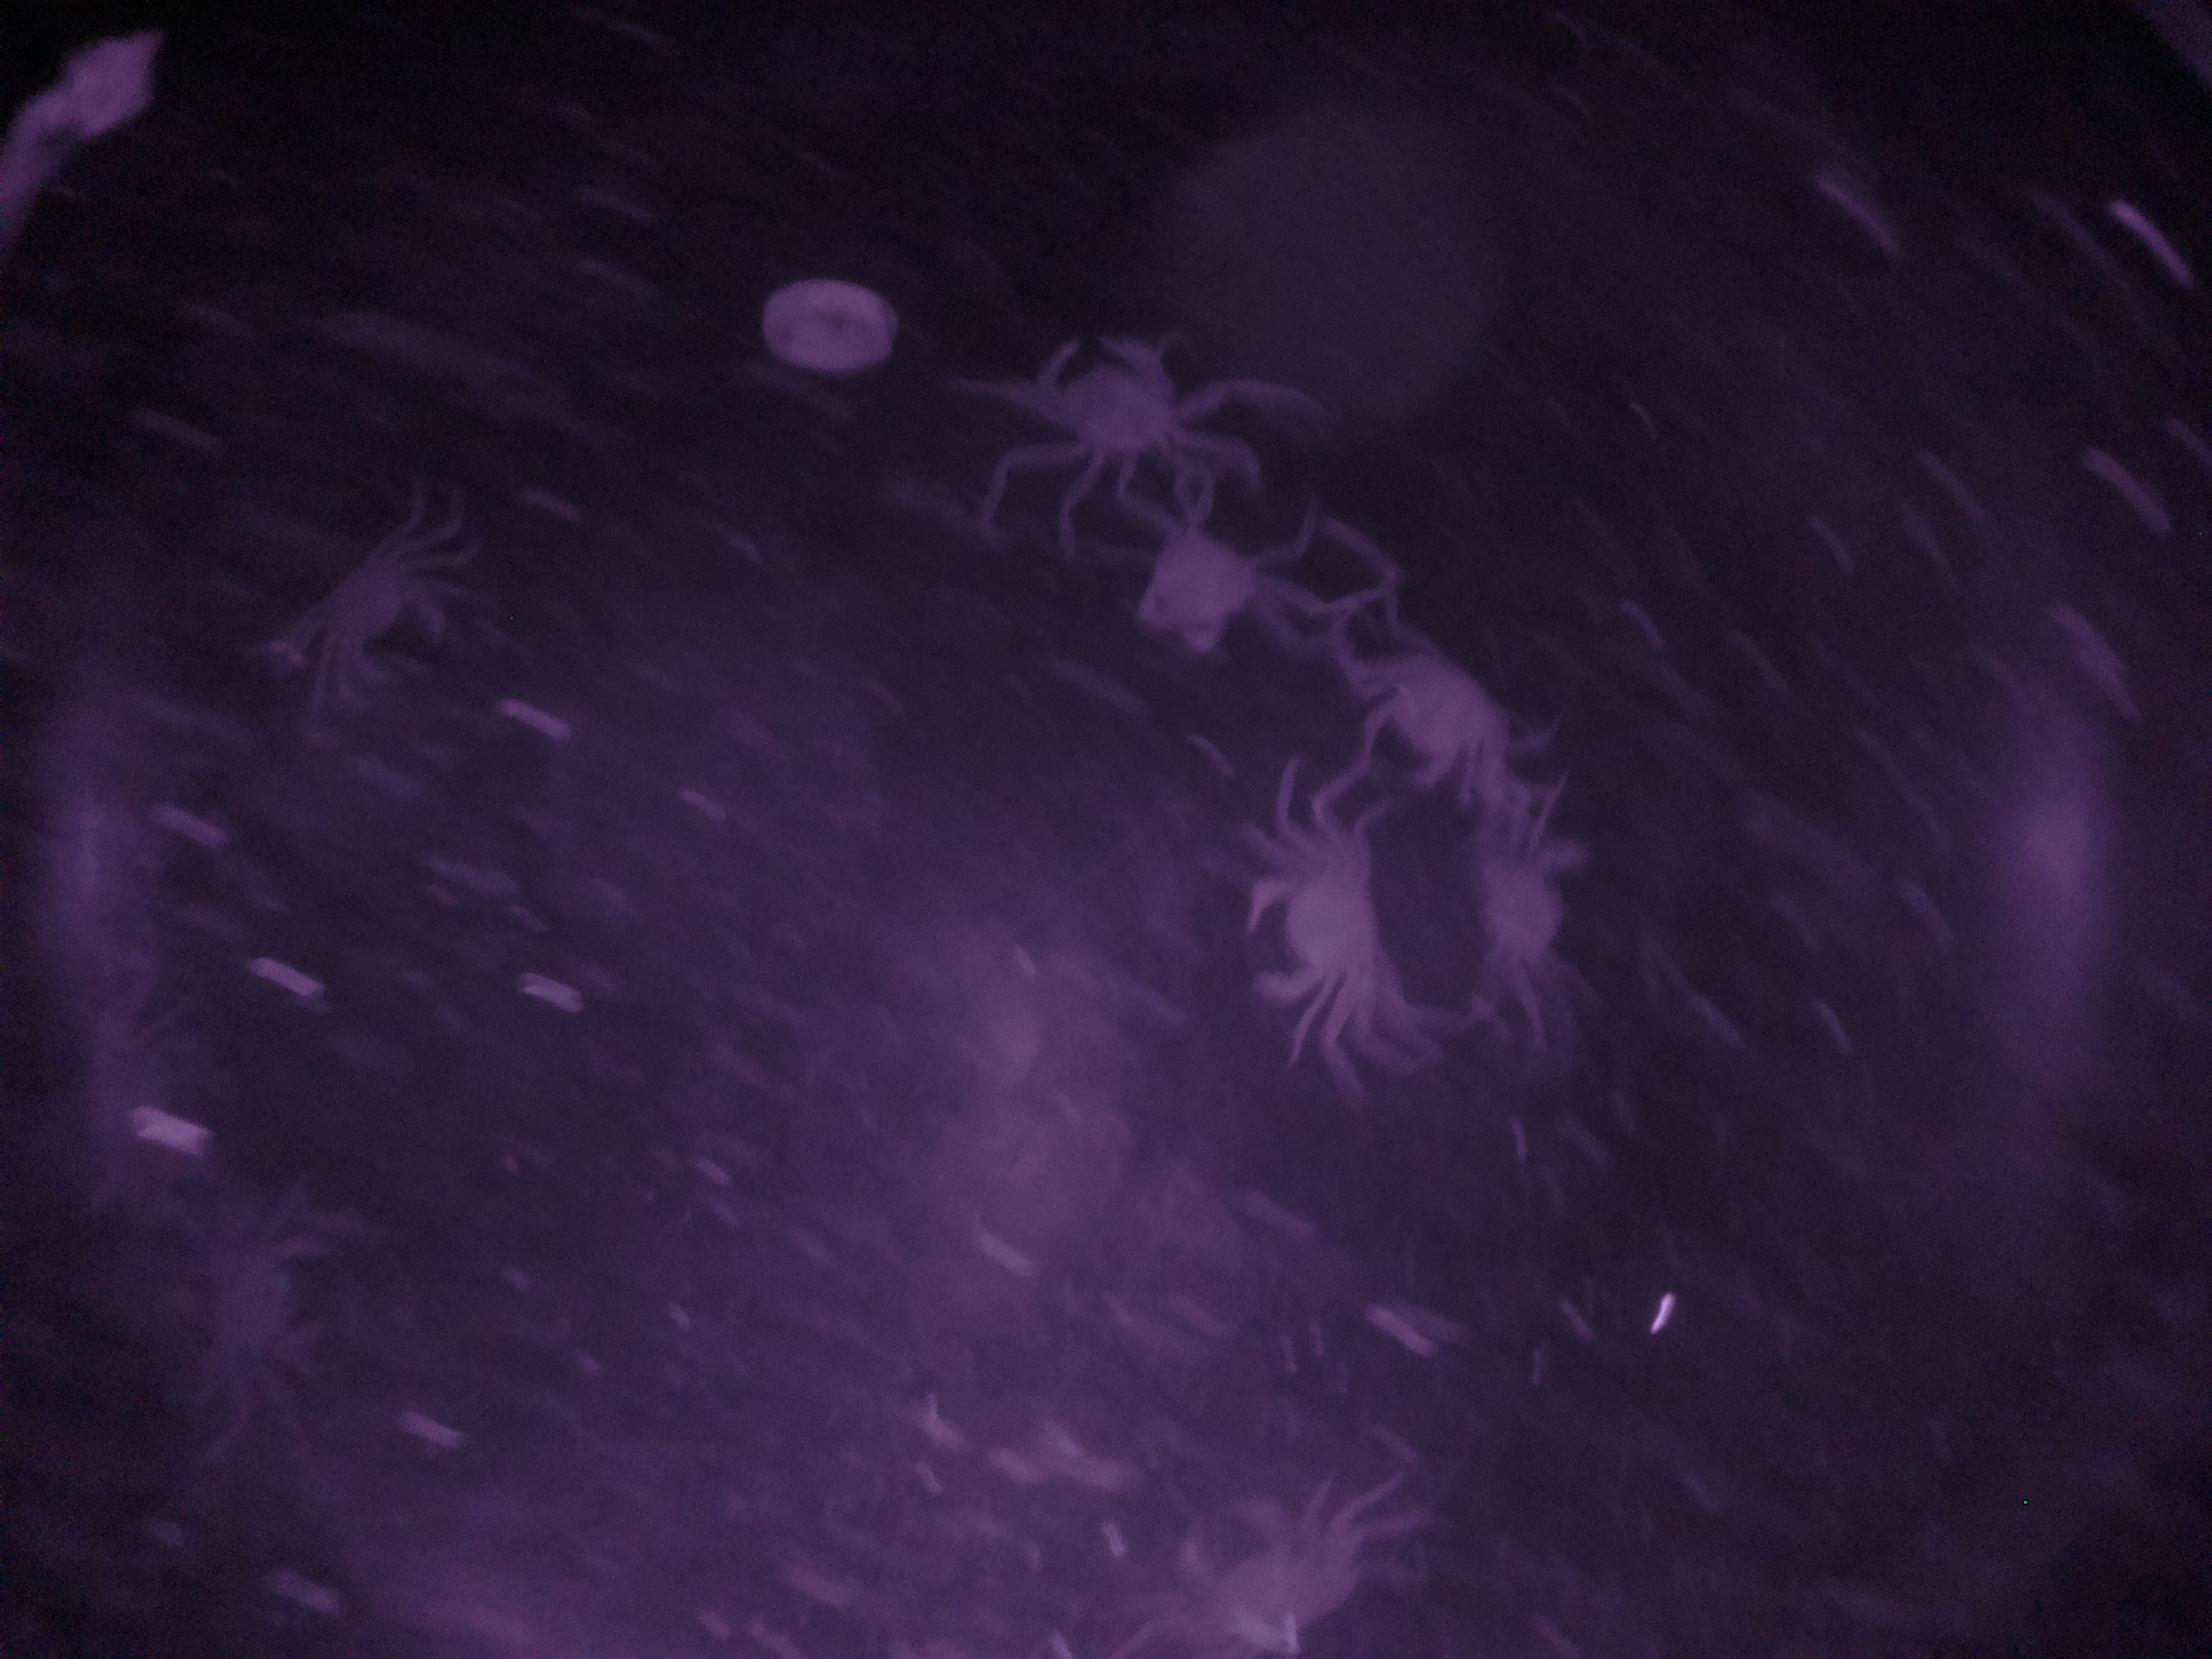Crab: (1223, 824, 1411, 1042)
